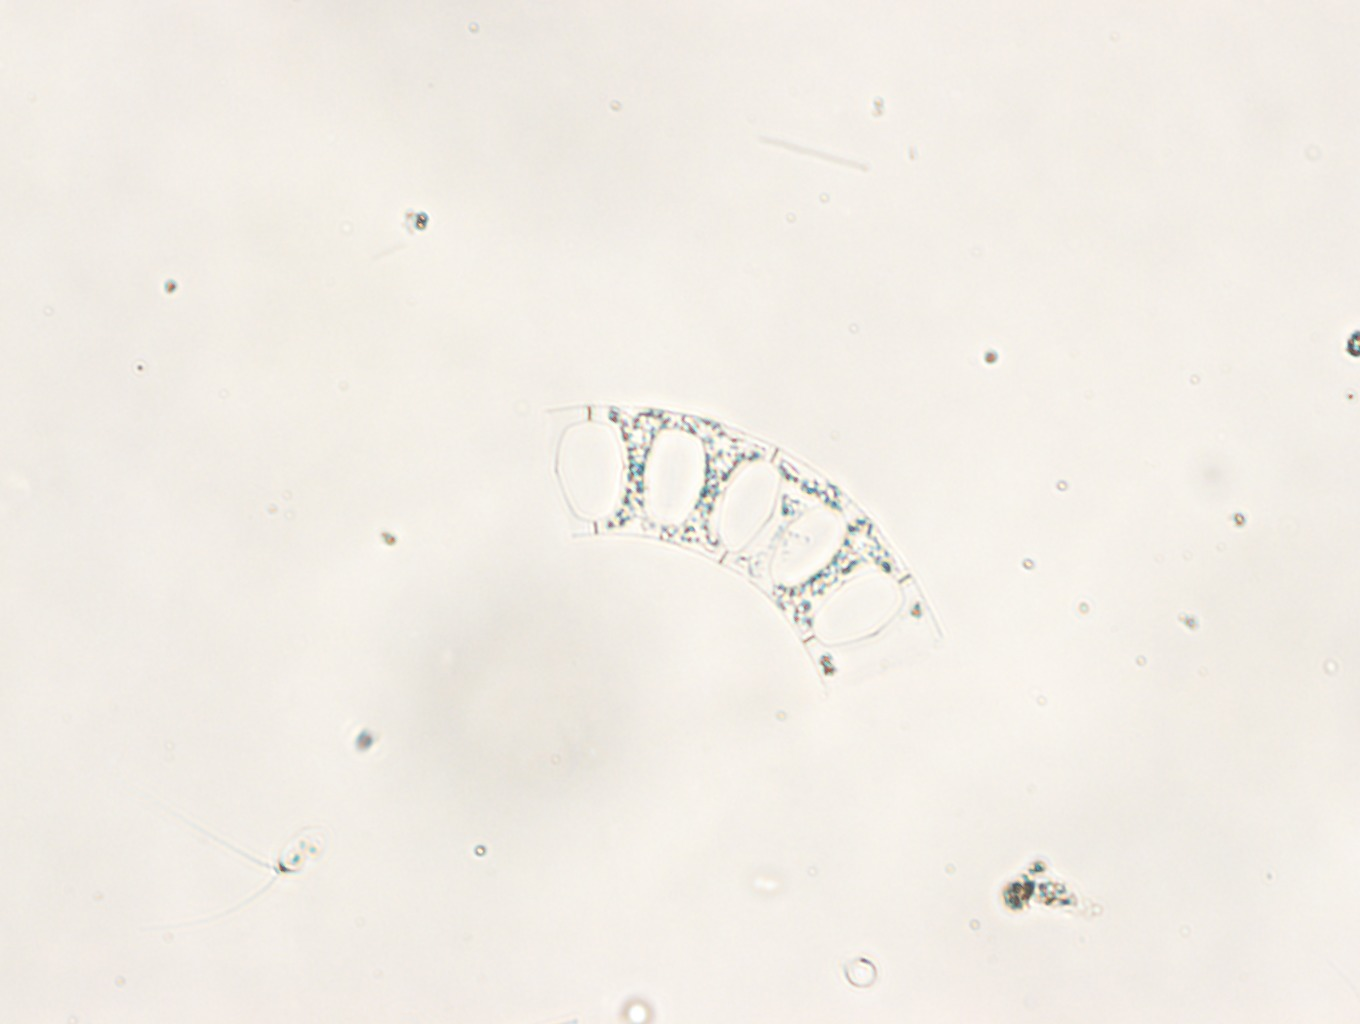eucampia: (539, 404, 943, 689)
